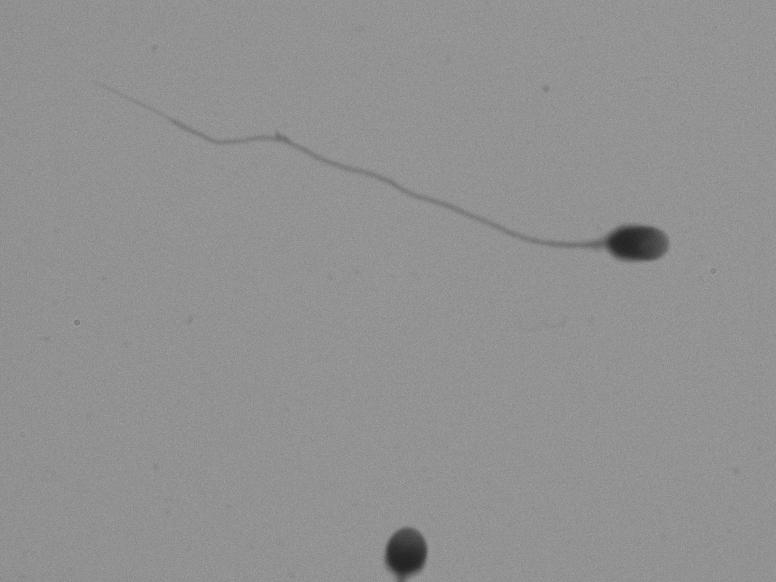Normal: (67, 73, 719, 275)
